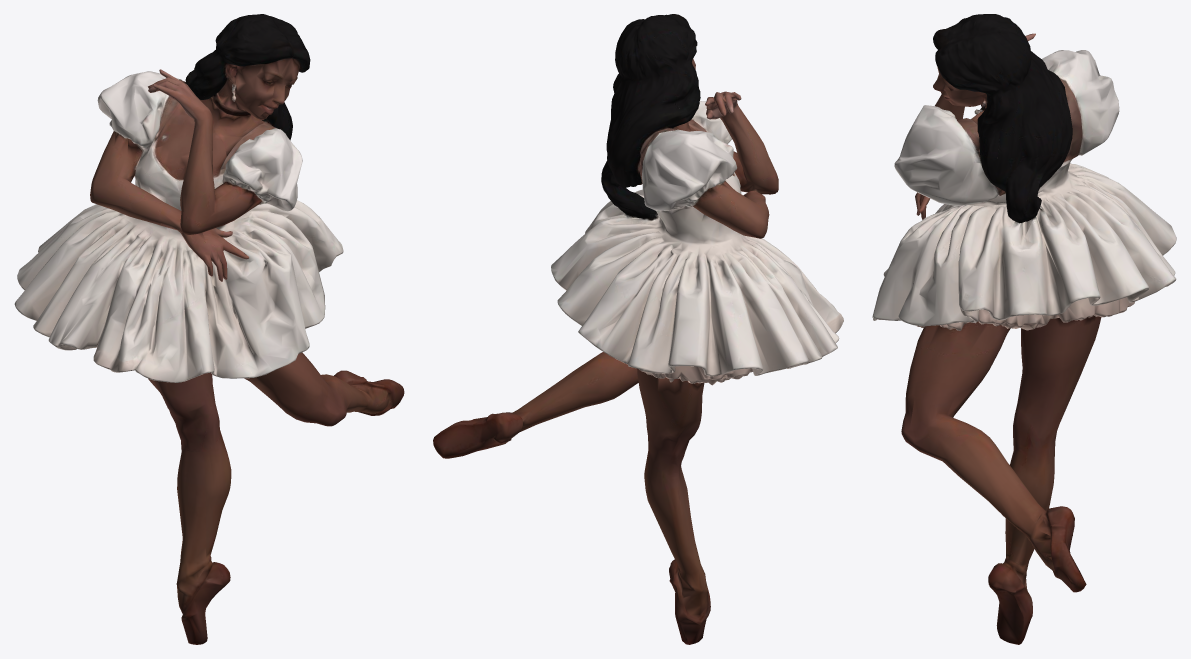
The model's file is ballerine.glb.
3 views of the same model, side by side, from view 1: azimuth 30°, elevation 25°; view 2: azimuth 150°, elevation 25°; view 3: azimuth 270°, elevation 25° (orthographic). The views are drawn at different scales.
Parts seen in each view (by area): view 1: tripo_node_ea8f5321-b804-41b2-969a-aa7c5691bf8d; view 2: tripo_node_ea8f5321-b804-41b2-969a-aa7c5691bf8d; view 3: tripo_node_ea8f5321-b804-41b2-969a-aa7c5691bf8d.
Part boxes in pixels (x1=…): tripo_node_ea8f5321-b804-41b2-969a-aa7c5691bf8d: x1=14, y1=14, x2=404, y2=644; tripo_node_ea8f5321-b804-41b2-969a-aa7c5691bf8d: x1=433, y1=14, x2=843, y2=644; tripo_node_ea8f5321-b804-41b2-969a-aa7c5691bf8d: x1=872, y1=14, x2=1176, y2=644.
Bounding box in the file's own units: 0.6333 × 0.9775 × 0.4149.
Materials: 1 (1 with a texture image).
